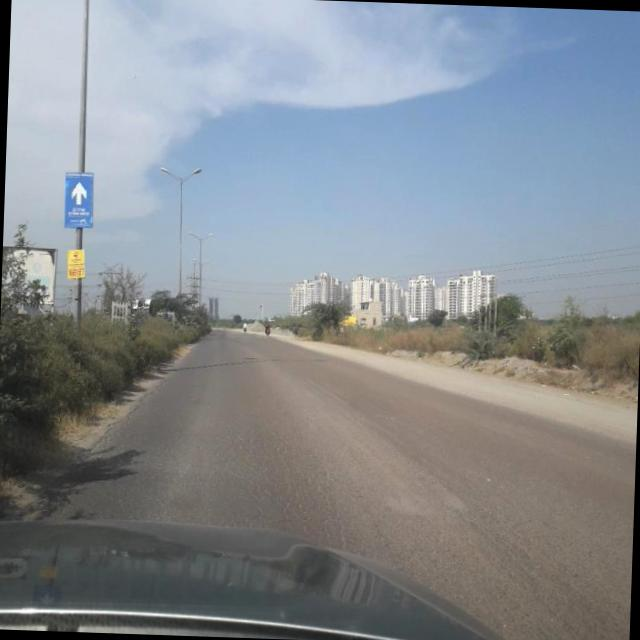crack: (120, 397, 488, 562)
pothole: (33, 370, 171, 510)
